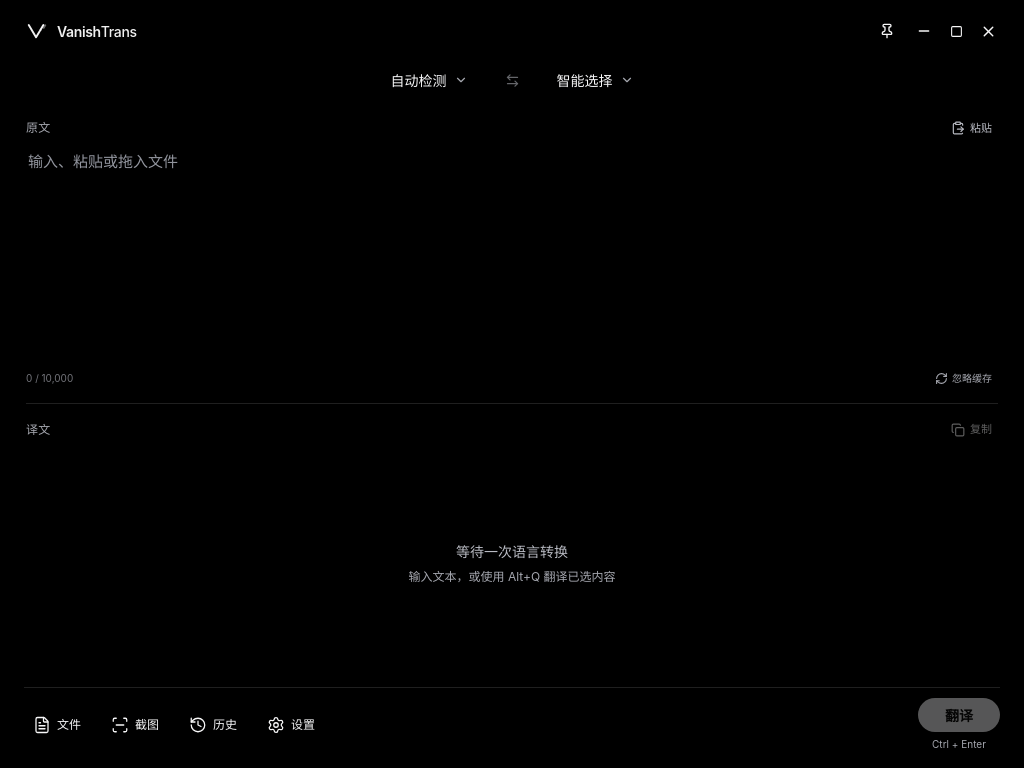
Scenario: App › keeps settings and history in mutually exclusive overlay drawers
The width and height of the screenshot is (1024, 768).
Click the button with aria-label "打开设置".
click(292, 725)  # box [258,709,326,741]
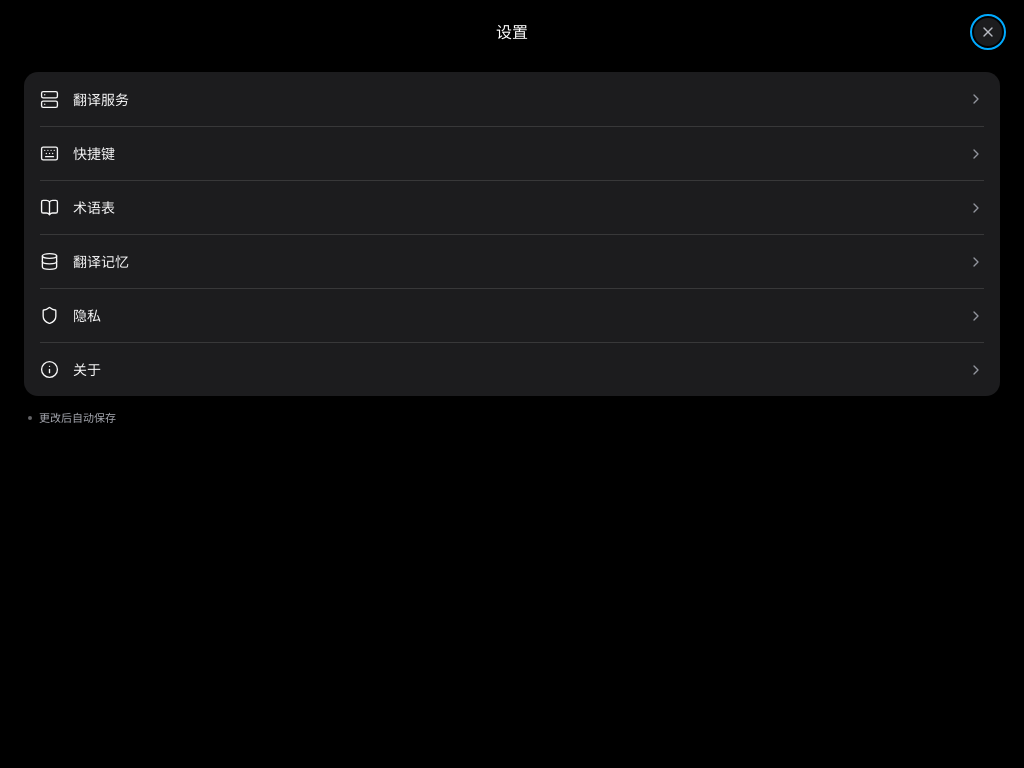
Now the dialog named "设置" is shown
Click the button named "关闭设置".
click(988, 32)  # box [974,18,1002,46]
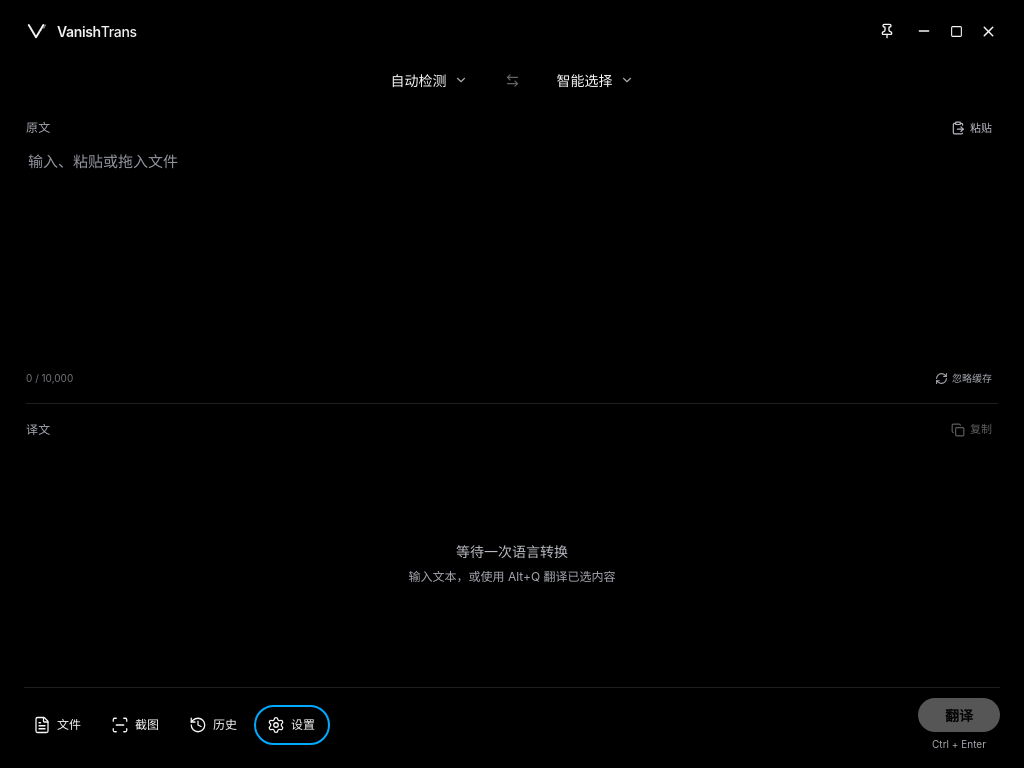
Click the button with aria-label "打开历史记录".
click(214, 725)  # box [180,709,248,741]
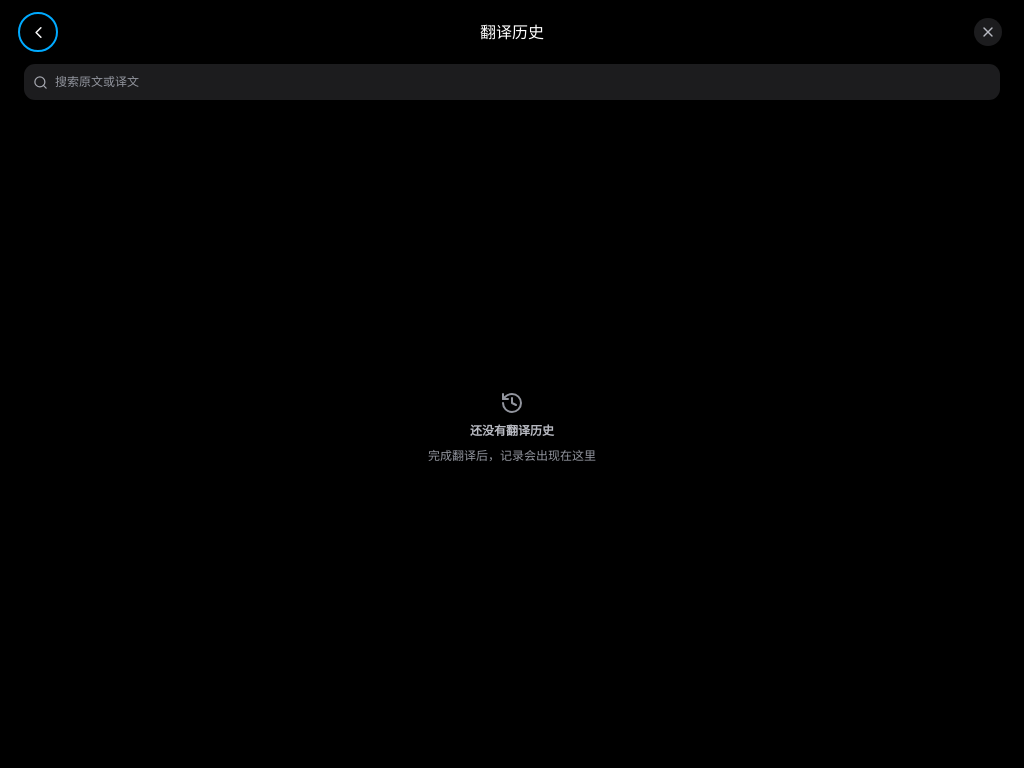
Now the dialog "翻译历史" is shown
